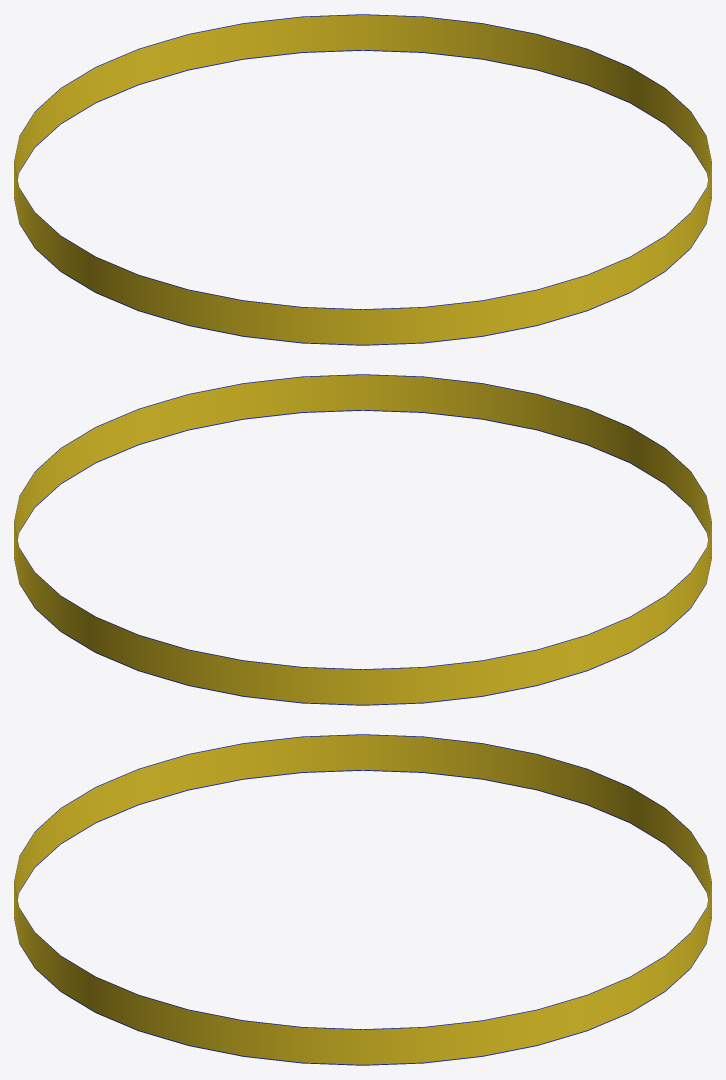
Rendered from Progeny City Ring 1.FBX.
The picture shows the model from 3 angles, top to bottom: view 1: azimuth 30°, elevation 25°; view 2: azimuth 150°, elevation 25°; view 3: azimuth 270°, elevation 25°; orthographic projection.
Visible parts, largest first — view 1: Cylinder001; view 2: Cylinder001; view 3: Cylinder001.
Boxes of the visible parts, x1,y1,x2,y2 form: Cylinder001: (14, 14, 711, 345); Cylinder001: (14, 374, 711, 705); Cylinder001: (14, 734, 711, 1065).
Size of the model in its own units: 3309 by 191 by 3309.
